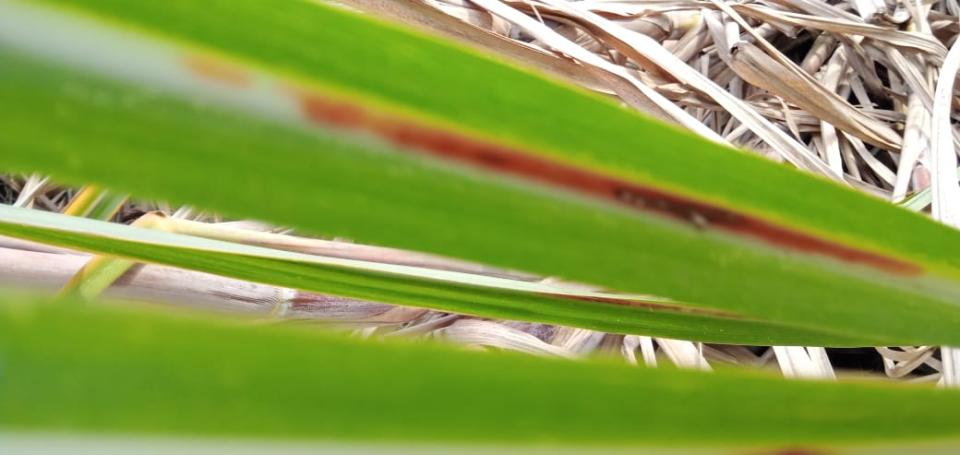RedRot: (299, 84, 926, 279), (186, 50, 263, 87)
